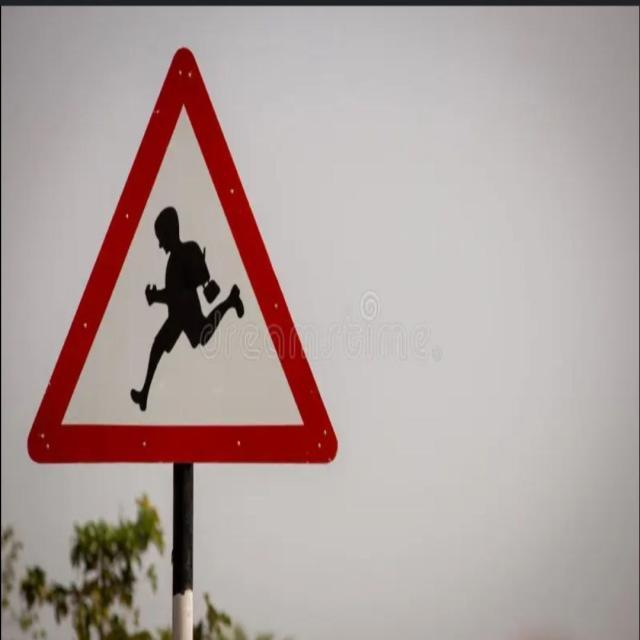school ahead: (26, 38, 347, 470)
